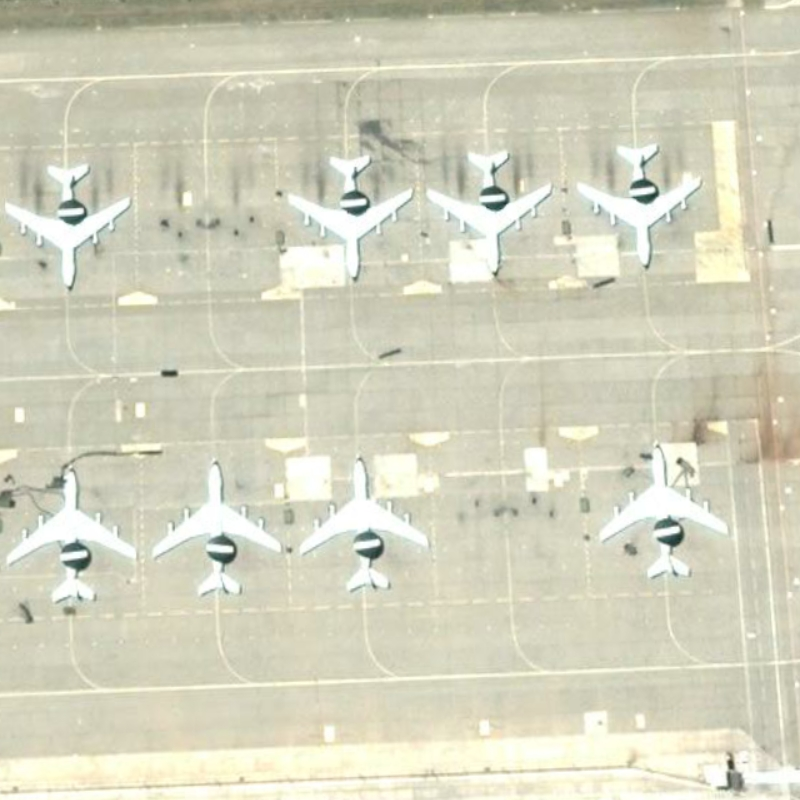A7: (593, 437, 733, 580), (150, 457, 285, 602), (6, 460, 137, 608), (282, 148, 418, 288), (299, 454, 432, 597), (426, 148, 555, 281), (6, 157, 131, 294), (576, 135, 700, 272)
